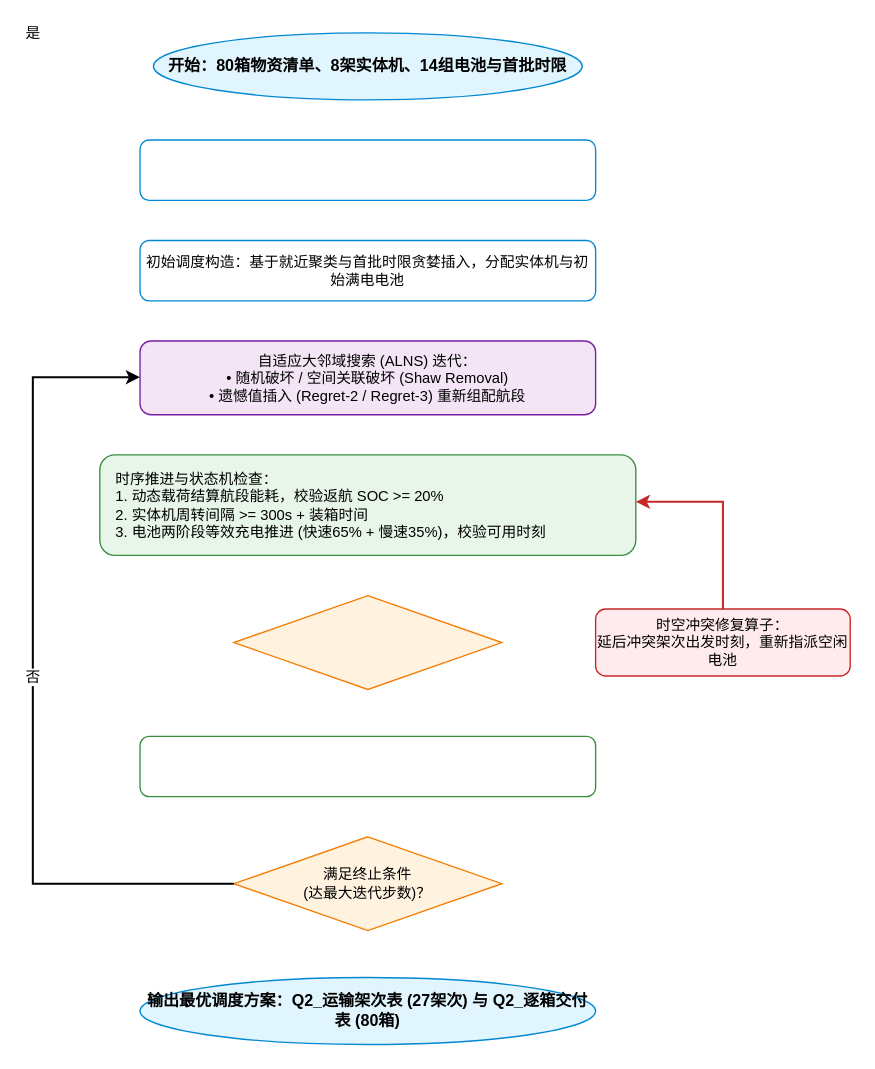
This 875x1069 diagram has some shape labels left out. Each missing label, with the centre of its shape:
"是否存在时效违约 或物理冲突？" belongs at point 367,641.
"物资优先级排序：医疗物资 & 首批时限物资置顶，按截止时间升序构建候选池" belongs at point 367,169.
"解质量评估：计算全任务 Makespan 与总运输能耗，更新全局最优解" belongs at point 367,766.
